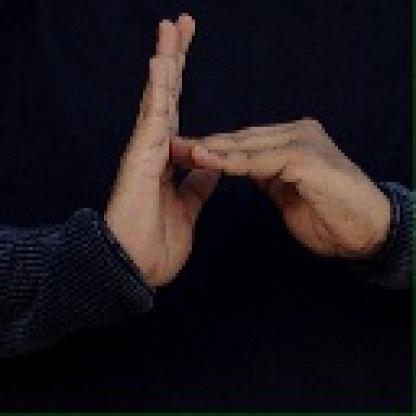Z: (122, 4, 340, 300)
